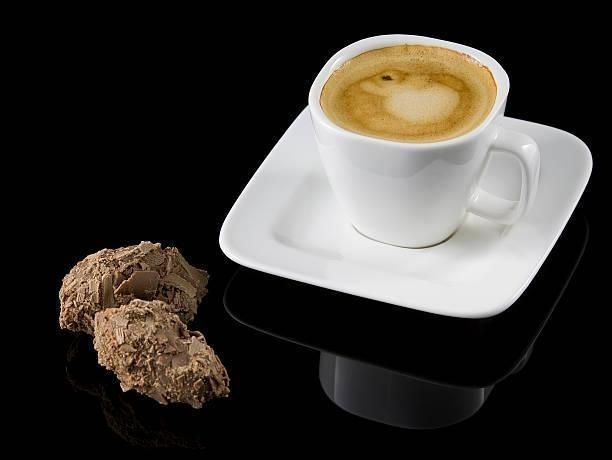cup-handle: (307, 32, 542, 249)
